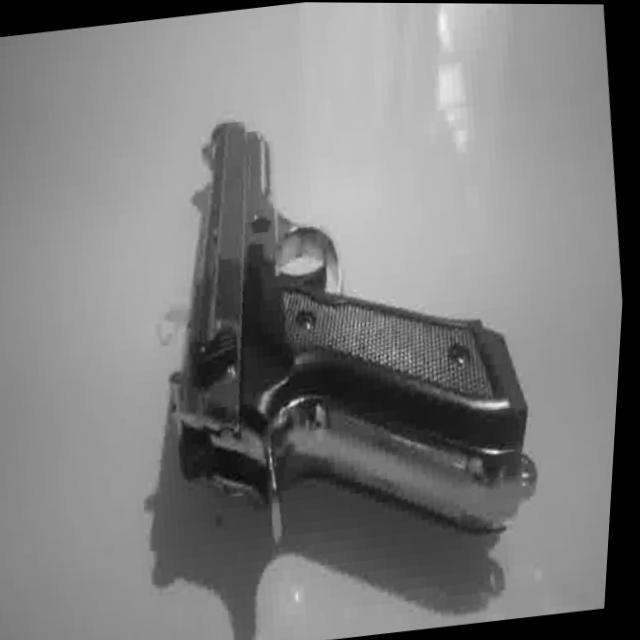weapon: (130, 84, 568, 570)
